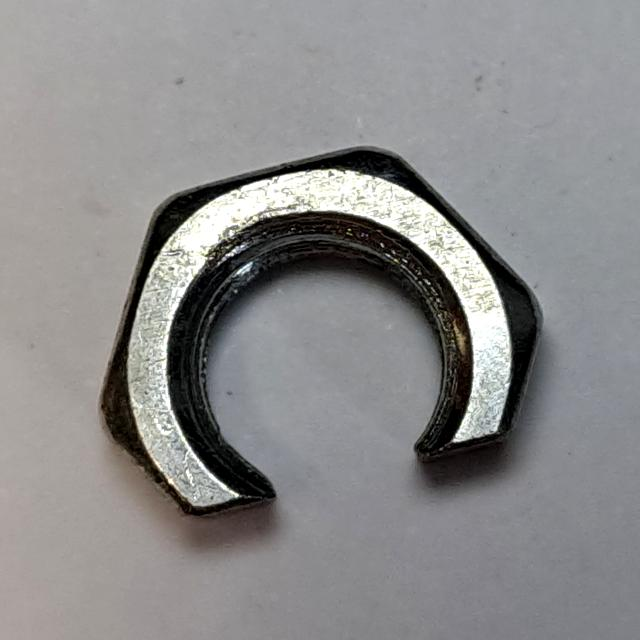Fracture: (79, 134, 553, 534)
